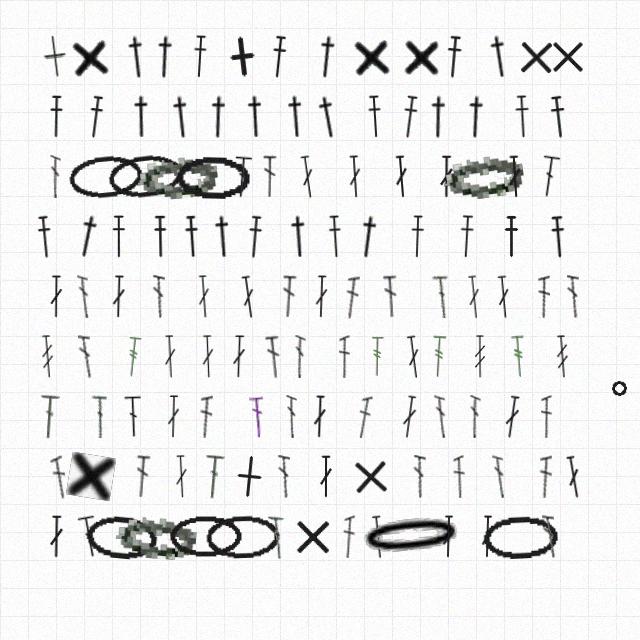chain: (356, 510, 467, 563), (441, 150, 526, 203), (136, 152, 219, 202), (106, 151, 184, 202), (115, 513, 197, 561), (67, 152, 145, 202), (84, 512, 160, 562), (482, 514, 558, 560), (205, 514, 281, 559), (175, 155, 250, 199), (169, 515, 243, 558)
double: (77, 514, 102, 559), (538, 154, 561, 199), (203, 455, 225, 499), (232, 155, 253, 199), (39, 395, 60, 439), (563, 455, 584, 499), (502, 395, 522, 439), (298, 155, 317, 199), (239, 275, 258, 319), (404, 335, 423, 379), (400, 395, 419, 439), (50, 455, 69, 499), (124, 395, 143, 438), (465, 275, 483, 319), (265, 335, 283, 379), (268, 515, 286, 559), (369, 515, 387, 559), (432, 275, 450, 318), (495, 275, 512, 319), (356, 395, 373, 439), (393, 155, 410, 198), (249, 395, 266, 438), (134, 455, 151, 498), (173, 455, 190, 498), (344, 275, 360, 319), (347, 155, 363, 198), (507, 155, 523, 198), (196, 275, 212, 318), (281, 275, 297, 318), (383, 275, 399, 318), (162, 335, 178, 378), (200, 335, 216, 378), (231, 335, 247, 378), (91, 395, 107, 438), (439, 155, 454, 198), (111, 275, 126, 318), (314, 275, 329, 318), (78, 335, 93, 378), (166, 395, 181, 438), (312, 395, 327, 438), (492, 455, 507, 498), (49, 515, 64, 558), (441, 515, 456, 558), (480, 515, 495, 558), (542, 515, 557, 558), (263, 155, 277, 198), (49, 275, 63, 318), (77, 275, 91, 318), (199, 395, 213, 438), (434, 395, 448, 438), (319, 455, 333, 498), (412, 455, 426, 498), (152, 275, 165, 318), (293, 335, 306, 378), (468, 395, 481, 438), (453, 455, 466, 498), (539, 455, 552, 498), (49, 155, 61, 198), (538, 275, 550, 318), (567, 275, 579, 318), (278, 455, 290, 498), (343, 515, 355, 558), (339, 335, 350, 378), (286, 395, 297, 438), (541, 395, 552, 438)
half_double: (71, 213, 105, 260), (353, 214, 384, 260), (312, 34, 342, 80), (313, 94, 343, 140), (485, 34, 514, 79), (123, 35, 151, 79), (151, 35, 179, 79), (462, 95, 490, 139), (168, 95, 195, 139), (205, 95, 232, 139), (425, 95, 452, 139), (283, 95, 309, 138), (210, 215, 236, 258), (286, 215, 312, 258), (129, 95, 154, 138), (243, 95, 268, 138), (399, 95, 421, 139), (85, 95, 106, 139), (548, 95, 569, 139), (269, 35, 289, 79), (444, 35, 464, 79), (245, 215, 265, 259), (548, 215, 568, 259), (35, 215, 54, 259), (513, 95, 532, 138), (457, 215, 476, 258), (191, 35, 209, 78), (366, 95, 384, 138), (183, 215, 201, 258), (326, 215, 344, 258), (110, 215, 127, 258), (409, 215, 426, 258), (48, 95, 64, 138), (152, 215, 168, 258), (503, 215, 519, 258)
noise: (610, 379, 628, 397)
single: (66, 452, 116, 501), (219, 33, 266, 80), (226, 453, 273, 500), (348, 454, 393, 499), (69, 34, 112, 80), (514, 35, 558, 79), (351, 34, 393, 79), (546, 35, 589, 78), (291, 515, 334, 558), (402, 35, 442, 78), (42, 34, 69, 79)
treble: (124, 335, 143, 379), (430, 335, 448, 378), (39, 335, 56, 378), (510, 335, 527, 378), (554, 335, 571, 378), (370, 335, 385, 378), (473, 335, 487, 378)
